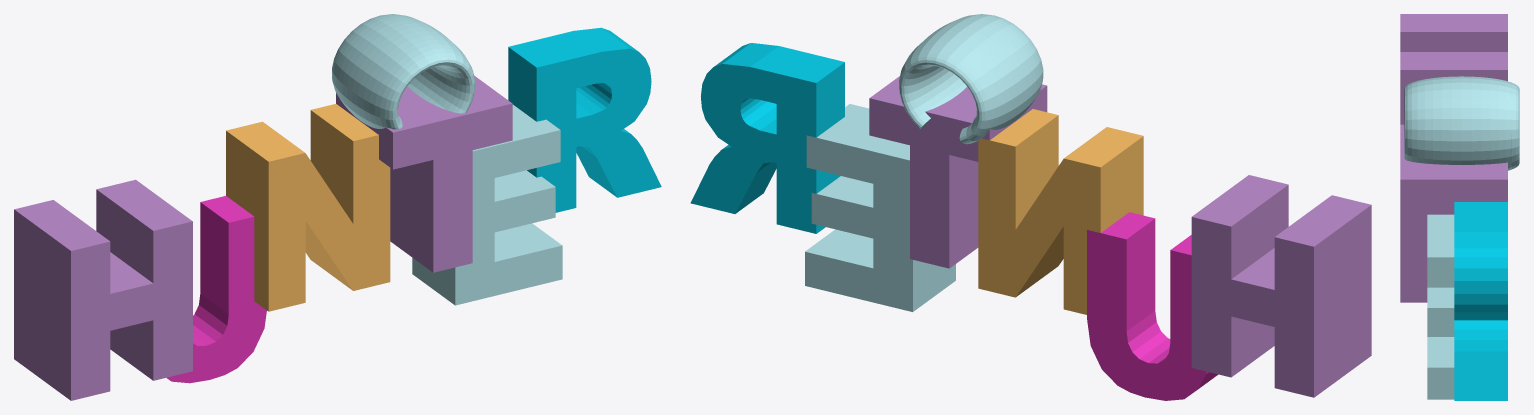
The model's file is HunterKeyChain.gltf.
The picture shows the model from 3 angles, left to right: view 1: azimuth 30°, elevation 25°; view 2: azimuth 150°, elevation 25°; view 3: azimuth 270°, elevation 25°; orthographic projection. The views are drawn at different scales.
Visible parts, largest first — view 1: group_0_8273816, group_0_7720667, group_0_16089887, group_0_40919, group_0_14093196; view 2: group_0_8273816, group_0_7720667, group_0_16089887, group_0_40919, group_0_14093196; view 3: group_0_7720667, group_0_8273816, group_0_40919.
Boxes of the visible parts, x1=… form: group_0_8273816: x1=14, y1=75, x2=512, y2=400; group_0_7720667: x1=332, y1=14, x2=562, y2=305; group_0_16089887: x1=226, y1=104, x2=390, y2=311; group_0_40919: x1=508, y1=27, x2=661, y2=212; group_0_14093196: x1=166, y1=196, x2=266, y2=383; group_0_8273816: x1=869, y1=76, x2=1371, y2=397; group_0_7720667: x1=805, y1=14, x2=1043, y2=311; group_0_16089887: x1=978, y1=109, x2=1143, y2=314; group_0_40919: x1=690, y1=43, x2=844, y2=233; group_0_14093196: x1=1087, y1=212, x2=1218, y2=400; group_0_7720667: x1=1404, y1=76, x2=1519, y2=399; group_0_8273816: x1=1400, y1=14, x2=1507, y2=302; group_0_40919: x1=1454, y1=202, x2=1507, y2=400.
Bounding box in the file's own units: 58.53 × 27 × 10.33.
